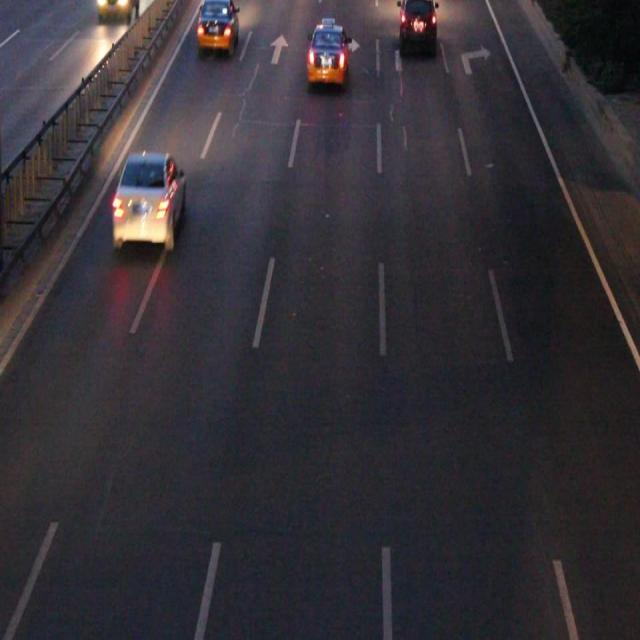car: (114, 157, 184, 244), (308, 25, 347, 83), (197, 1, 237, 52), (398, 1, 435, 52)
